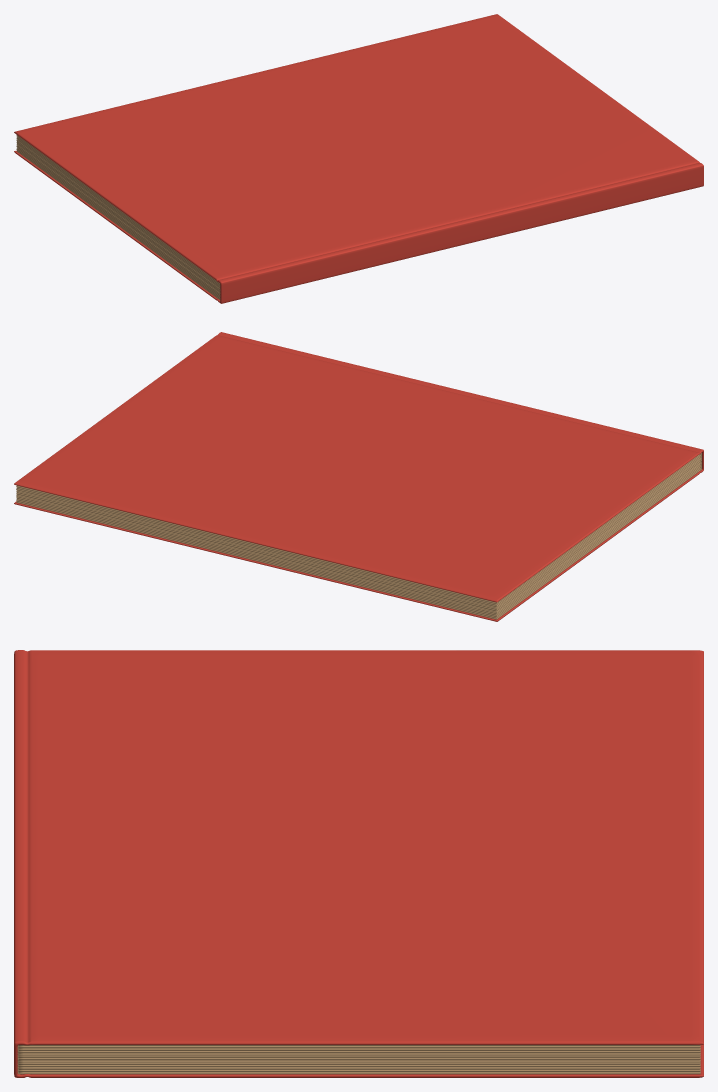
Rendered from misc_notebook_a04.glb.
3 renders of one model, top to bottom at view 1: azimuth 30°, elevation 25°; view 2: azimuth 150°, elevation 25°; view 3: azimuth 270°, elevation 25°, orthographic. The views are drawn at different scales.
Size of the model in its own units: 0.2289 by 0.01 by 0.17.
